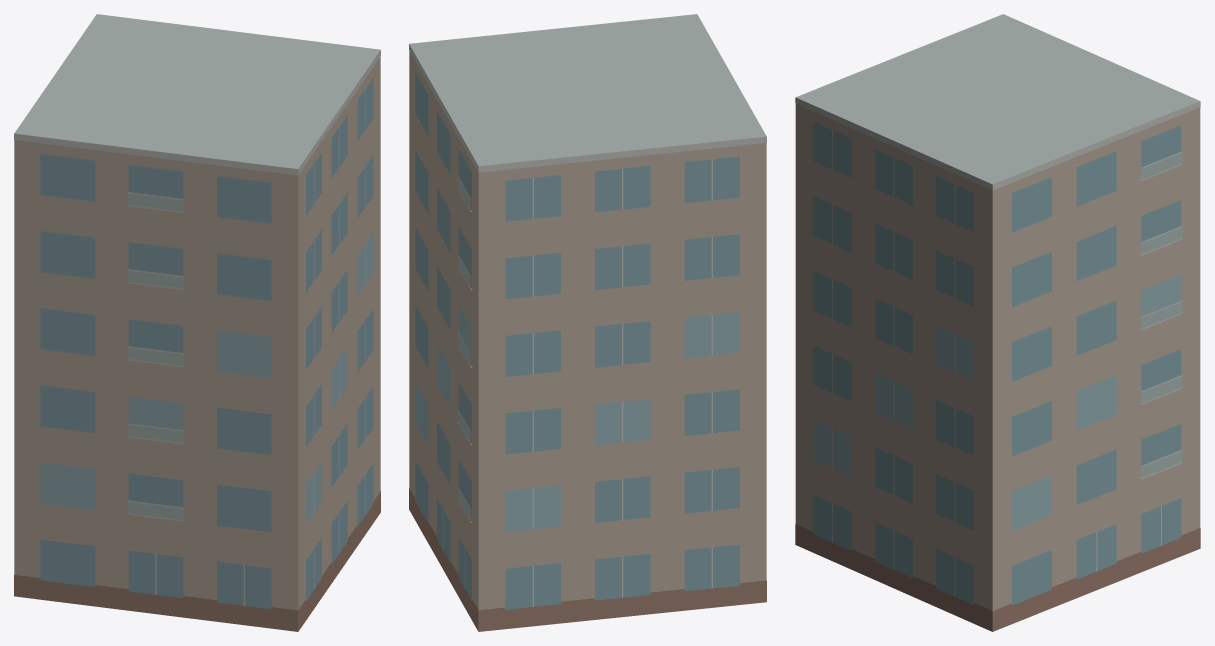
The model's file is survey-upis-32659701.glb.
3 renders of one model, left to right at view 1: azimuth 30°, elevation 25°; view 2: azimuth 150°, elevation 25°; view 3: azimuth 270°, elevation 25°, orthographic. The views are drawn at different scales.
Visible parts, largest first — view 1: survey-upis-32659701.tmp; view 2: survey-upis-32659701.tmp; view 3: survey-upis-32659701.tmp.
Boxes of the visible parts, x1,y1,x2,y2 form: survey-upis-32659701.tmp: (14,14,380,631); survey-upis-32659701.tmp: (409,14,766,631); survey-upis-32659701.tmp: (795,14,1200,631).
Bounding box in the file's own units: 14.67 × 17.95 × 14.73.
